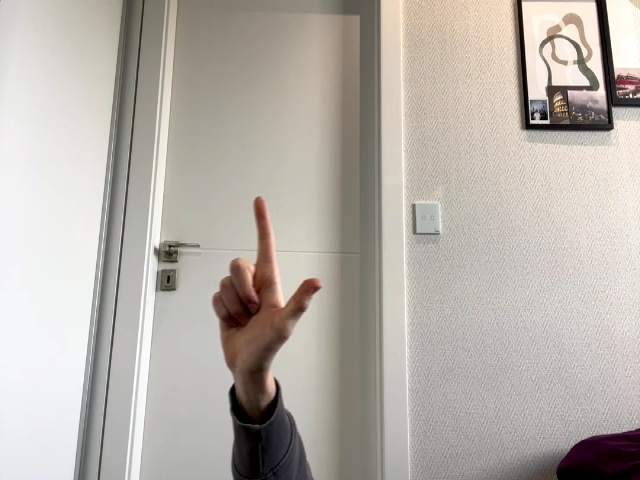L: (212, 196, 322, 381)
